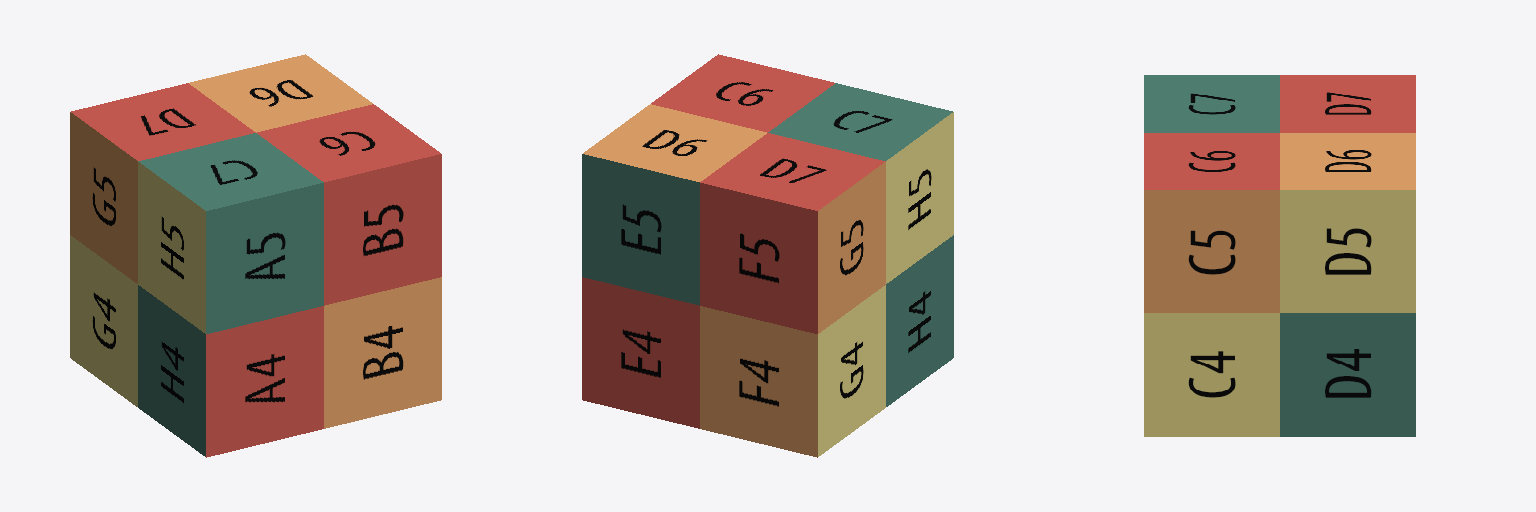
The picture shows the model from 3 angles: view 1: azimuth 30°, elevation 25°; view 2: azimuth 150°, elevation 25°; view 3: azimuth 270°, elevation 25°; orthographic projection.
Parts seen in each view (by area): view 1: Cube; view 2: Cube; view 3: Cube.
Boxes of the visible parts, box(x1,y1,x2,y2) form: Cube: box(70, 54, 441, 457); Cube: box(582, 54, 953, 457); Cube: box(1144, 75, 1415, 436).
Bounding box in the file's own units: 2 × 2 × 2.
Materials: 1 (1 with a texture image).